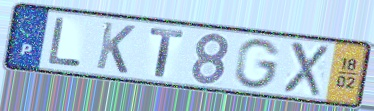8: (191, 31, 232, 86)
G: (233, 37, 284, 91)
K: (93, 20, 138, 76)
L: (45, 15, 84, 69)
T: (148, 26, 185, 79)
X: (281, 39, 331, 99)
